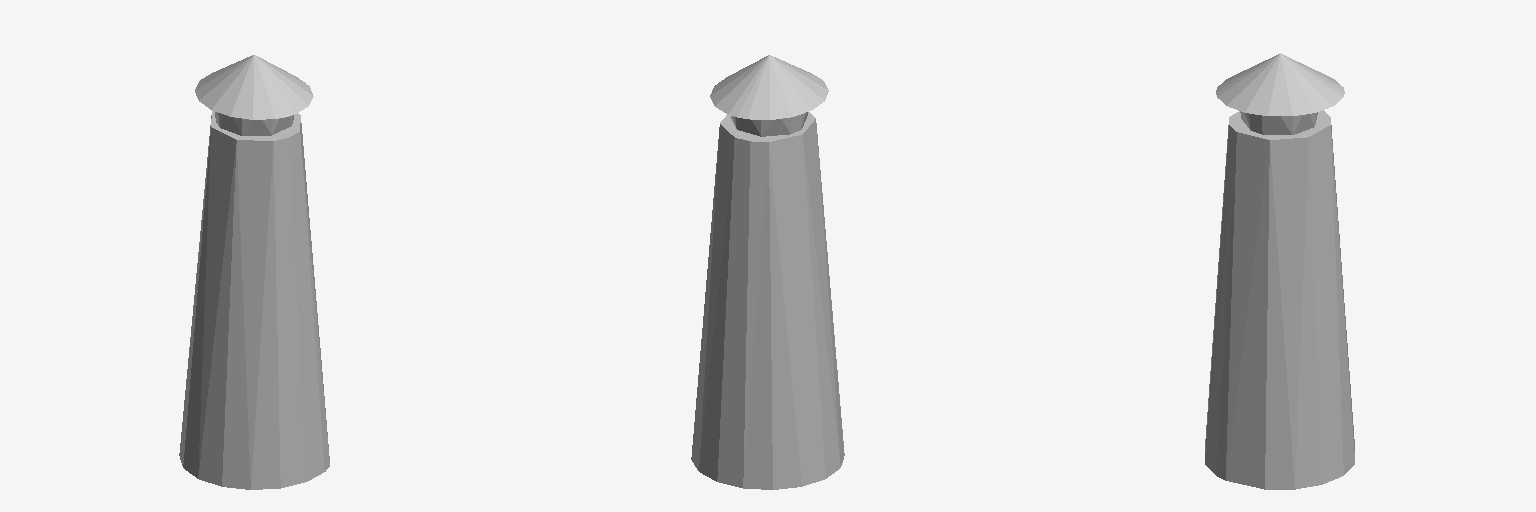
File: seaport.obj
3 renders of one model, left to right at view 1: azimuth 30°, elevation 25°; view 2: azimuth 150°, elevation 25°; view 3: azimuth 270°, elevation 25°, orthographic.
Visible parts, largest first — view 1: Cylinder_Cylinder.002, Cone, Cylinder.001_Cylinder.003; view 2: Cylinder_Cylinder.002, Cone, Cylinder.001_Cylinder.003; view 3: Cylinder_Cylinder.002, Cone, Cylinder.001_Cylinder.003.
Part boxes in pixels (bbox=[...]): Cylinder_Cylinder.002: bbox=[179, 111, 329, 489]; Cone: bbox=[195, 55, 313, 119]; Cylinder.001_Cylinder.003: bbox=[215, 112, 293, 135]; Cylinder_Cylinder.002: bbox=[691, 112, 844, 489]; Cone: bbox=[710, 55, 828, 119]; Cylinder.001_Cylinder.003: bbox=[731, 112, 807, 136]; Cylinder_Cylinder.002: bbox=[1205, 110, 1354, 489]; Cone: bbox=[1216, 53, 1344, 115]; Cylinder.001_Cylinder.003: bbox=[1240, 111, 1317, 134].
Size of the model in its own units: 1.96 by 5.79 by 1.96.